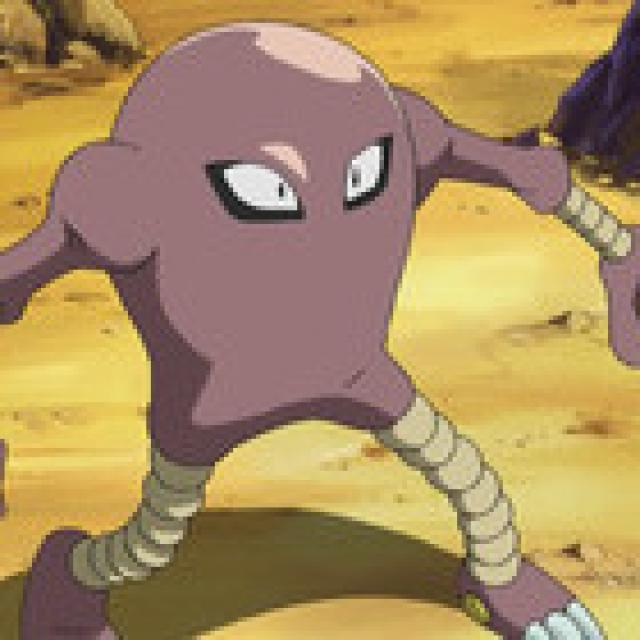Hitmonlee: (52, 15, 516, 588)
